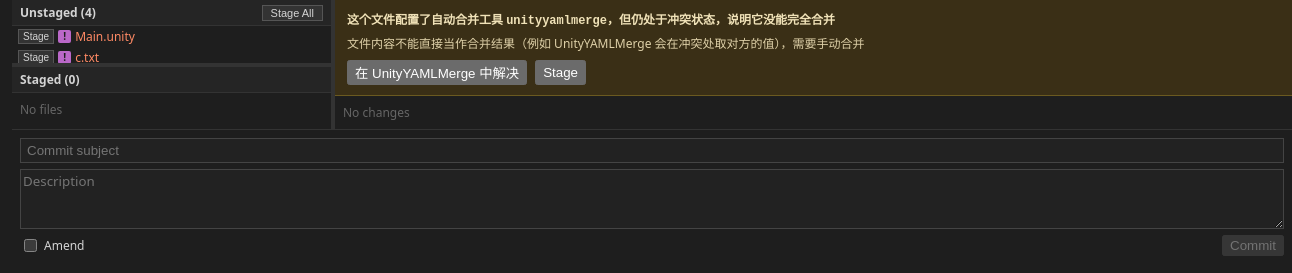
Test: LocalChangesView 的冲突文件 › 右键菜单的其他 merge 工具只列有 mergeArgs 的
Right-click the text "c.txt" at (87, 58), box top-left (75, 49), bottom-right (99, 66)
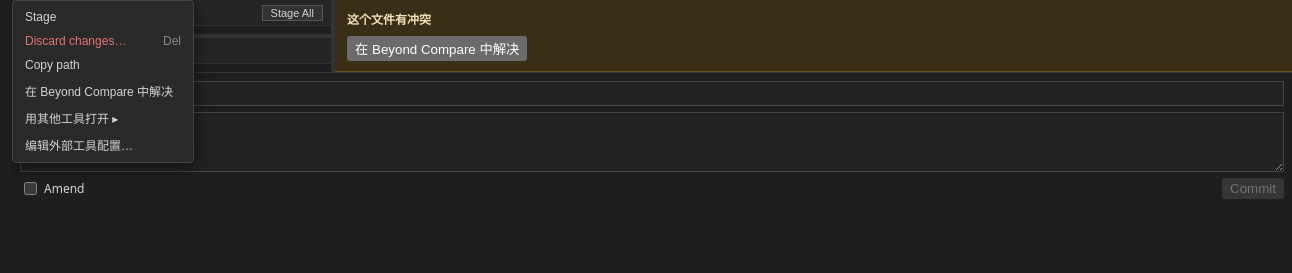
Click the button "用其他工具打开 ▸" at (103, 118), box top-left (13, 104), bottom-right (193, 131)
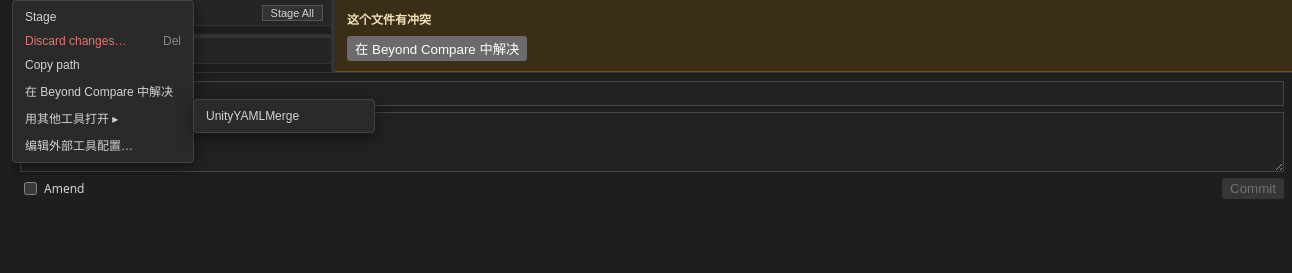
expect the button "UnityYAMLMerge" is shown: met, box top-left (194, 104), bottom-right (374, 128)
